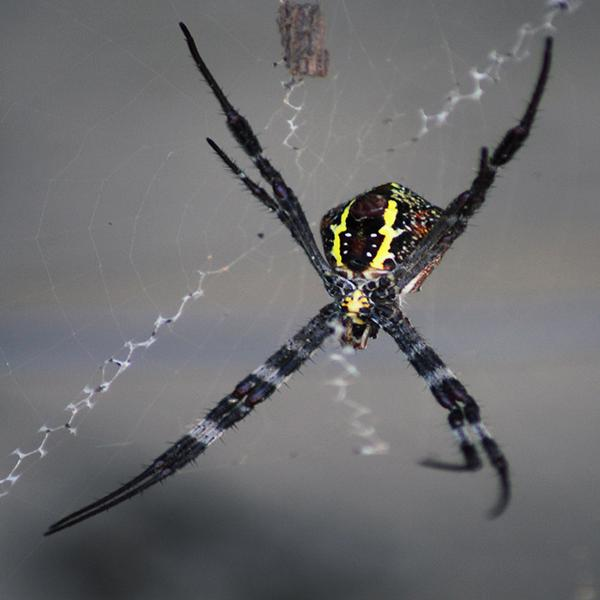St Andrew's Cross Spider: (64, 23, 554, 521)
